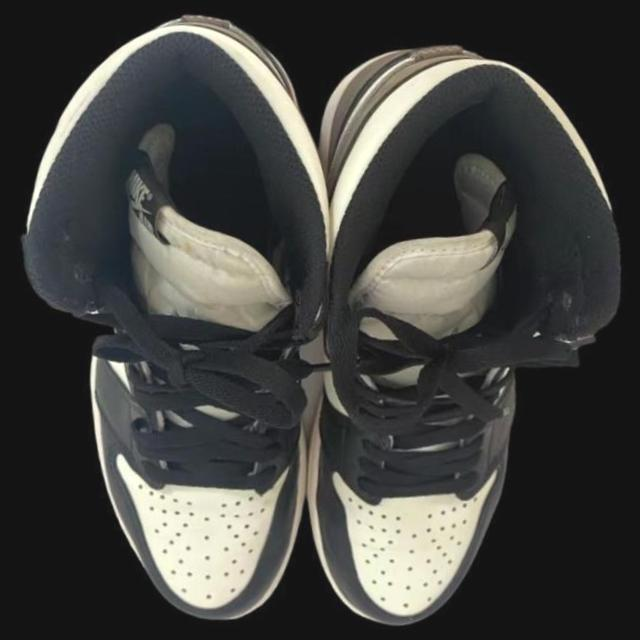nike_original_jordan: (0, 0, 370, 640), (271, 19, 640, 640)
